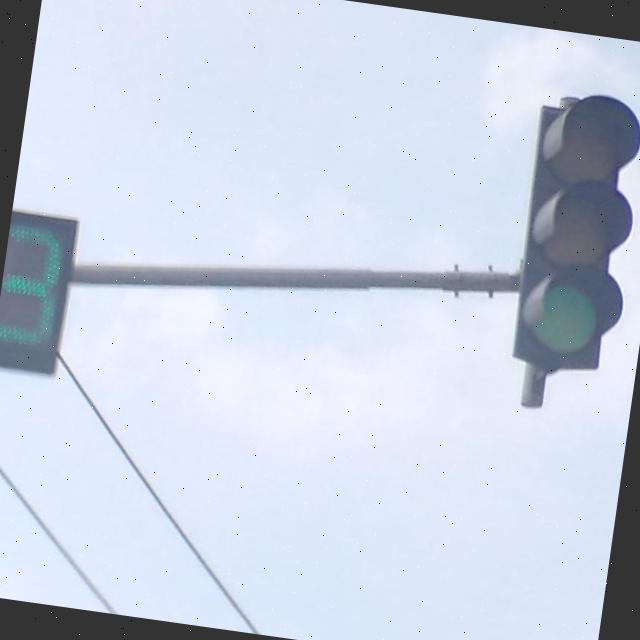green_light: (503, 90, 640, 378)
